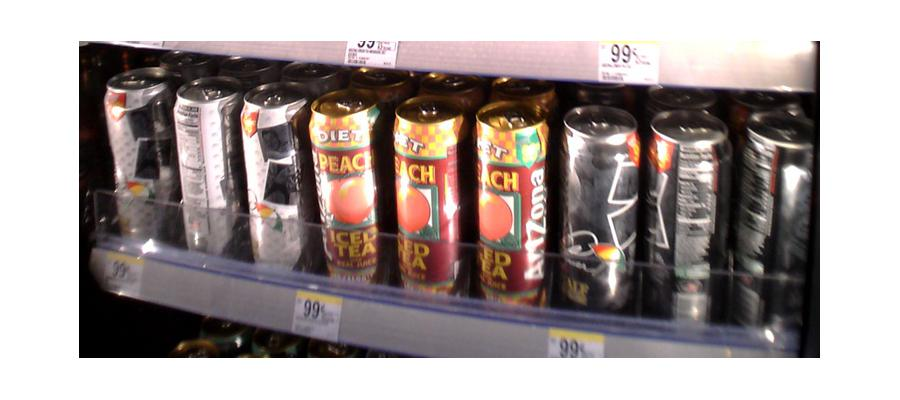bottle: (646, 111, 726, 323), (560, 104, 639, 316), (739, 109, 810, 339), (477, 100, 547, 306), (391, 98, 464, 295), (308, 91, 381, 283), (238, 87, 306, 274), (103, 69, 170, 252), (174, 79, 239, 259)
